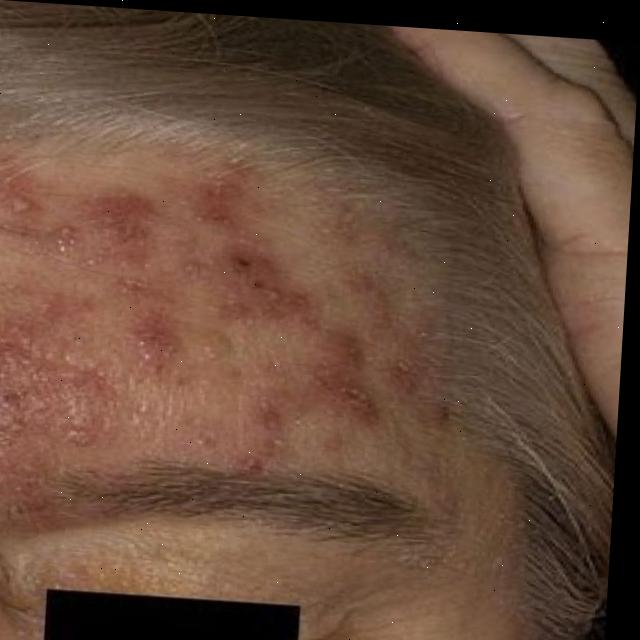Rosacea: (0, 96, 432, 499)
